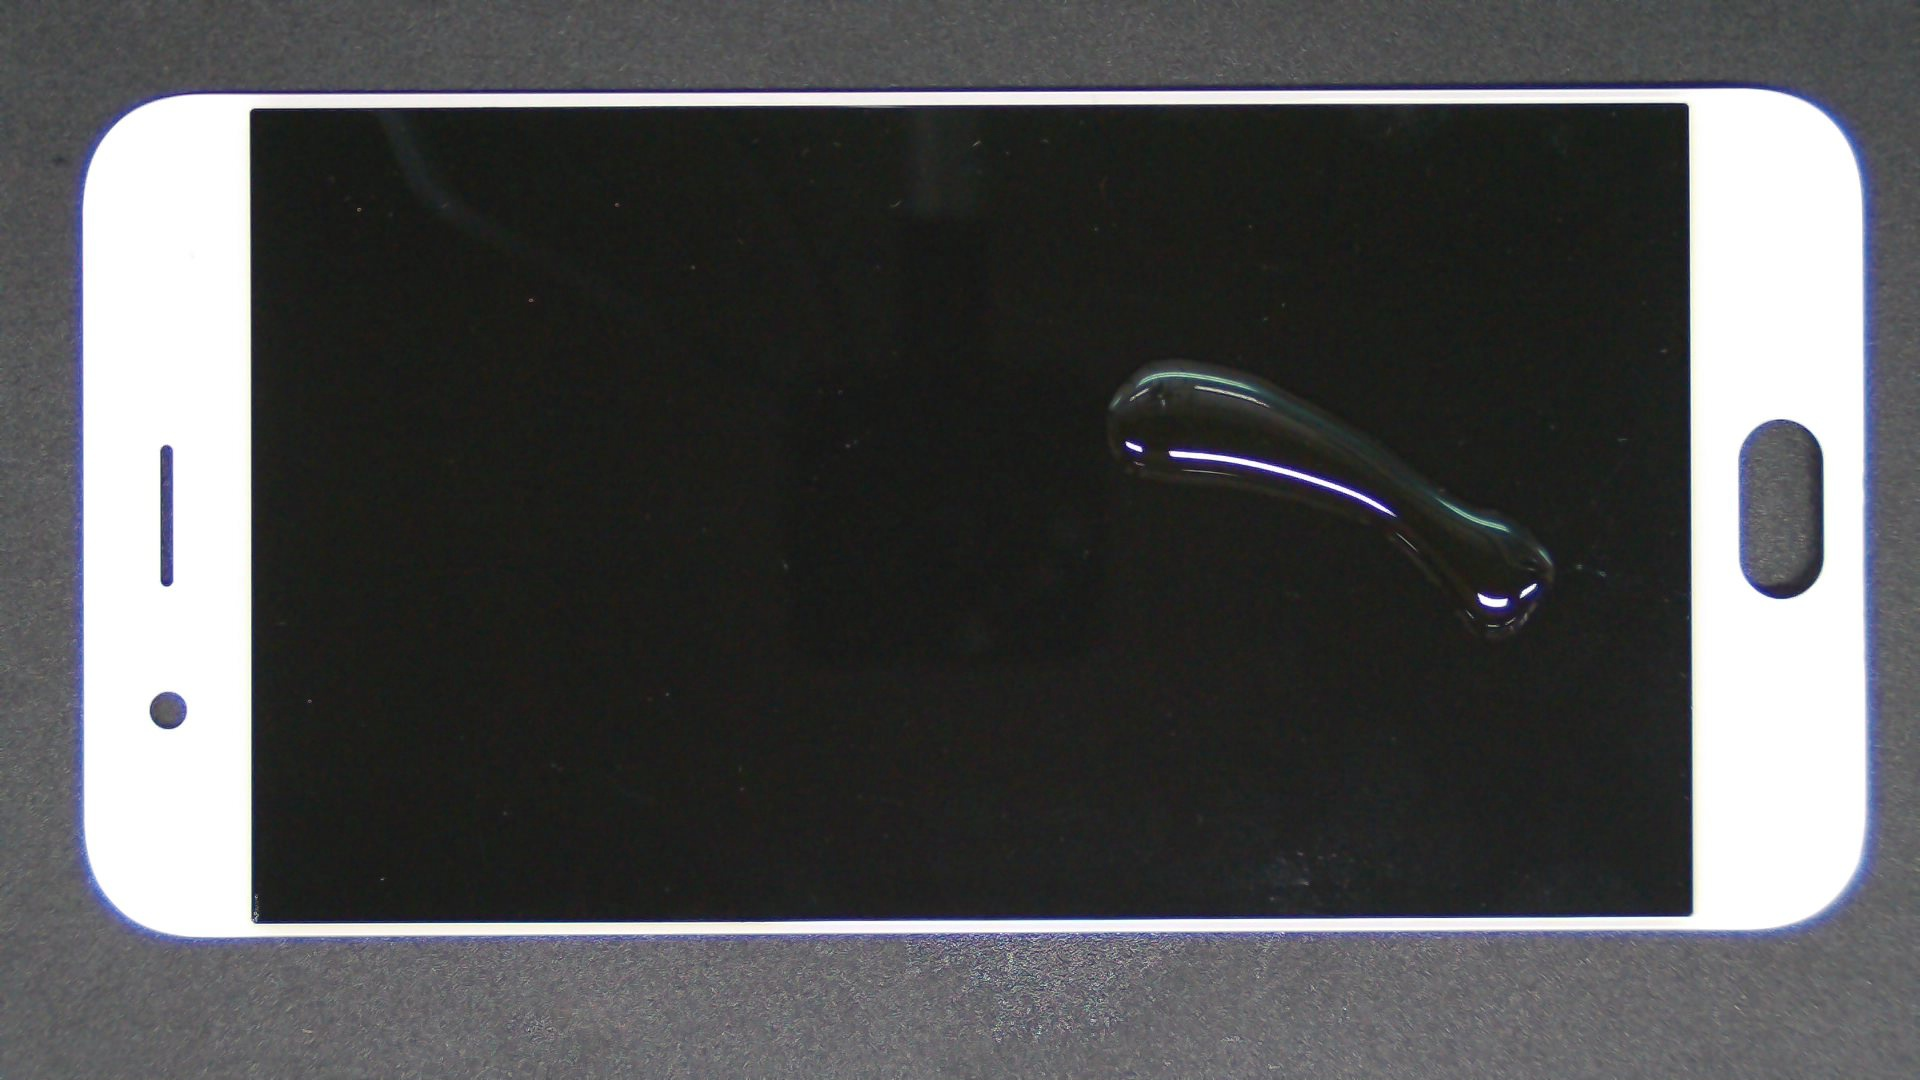oil: (582, 179, 1742, 539)
